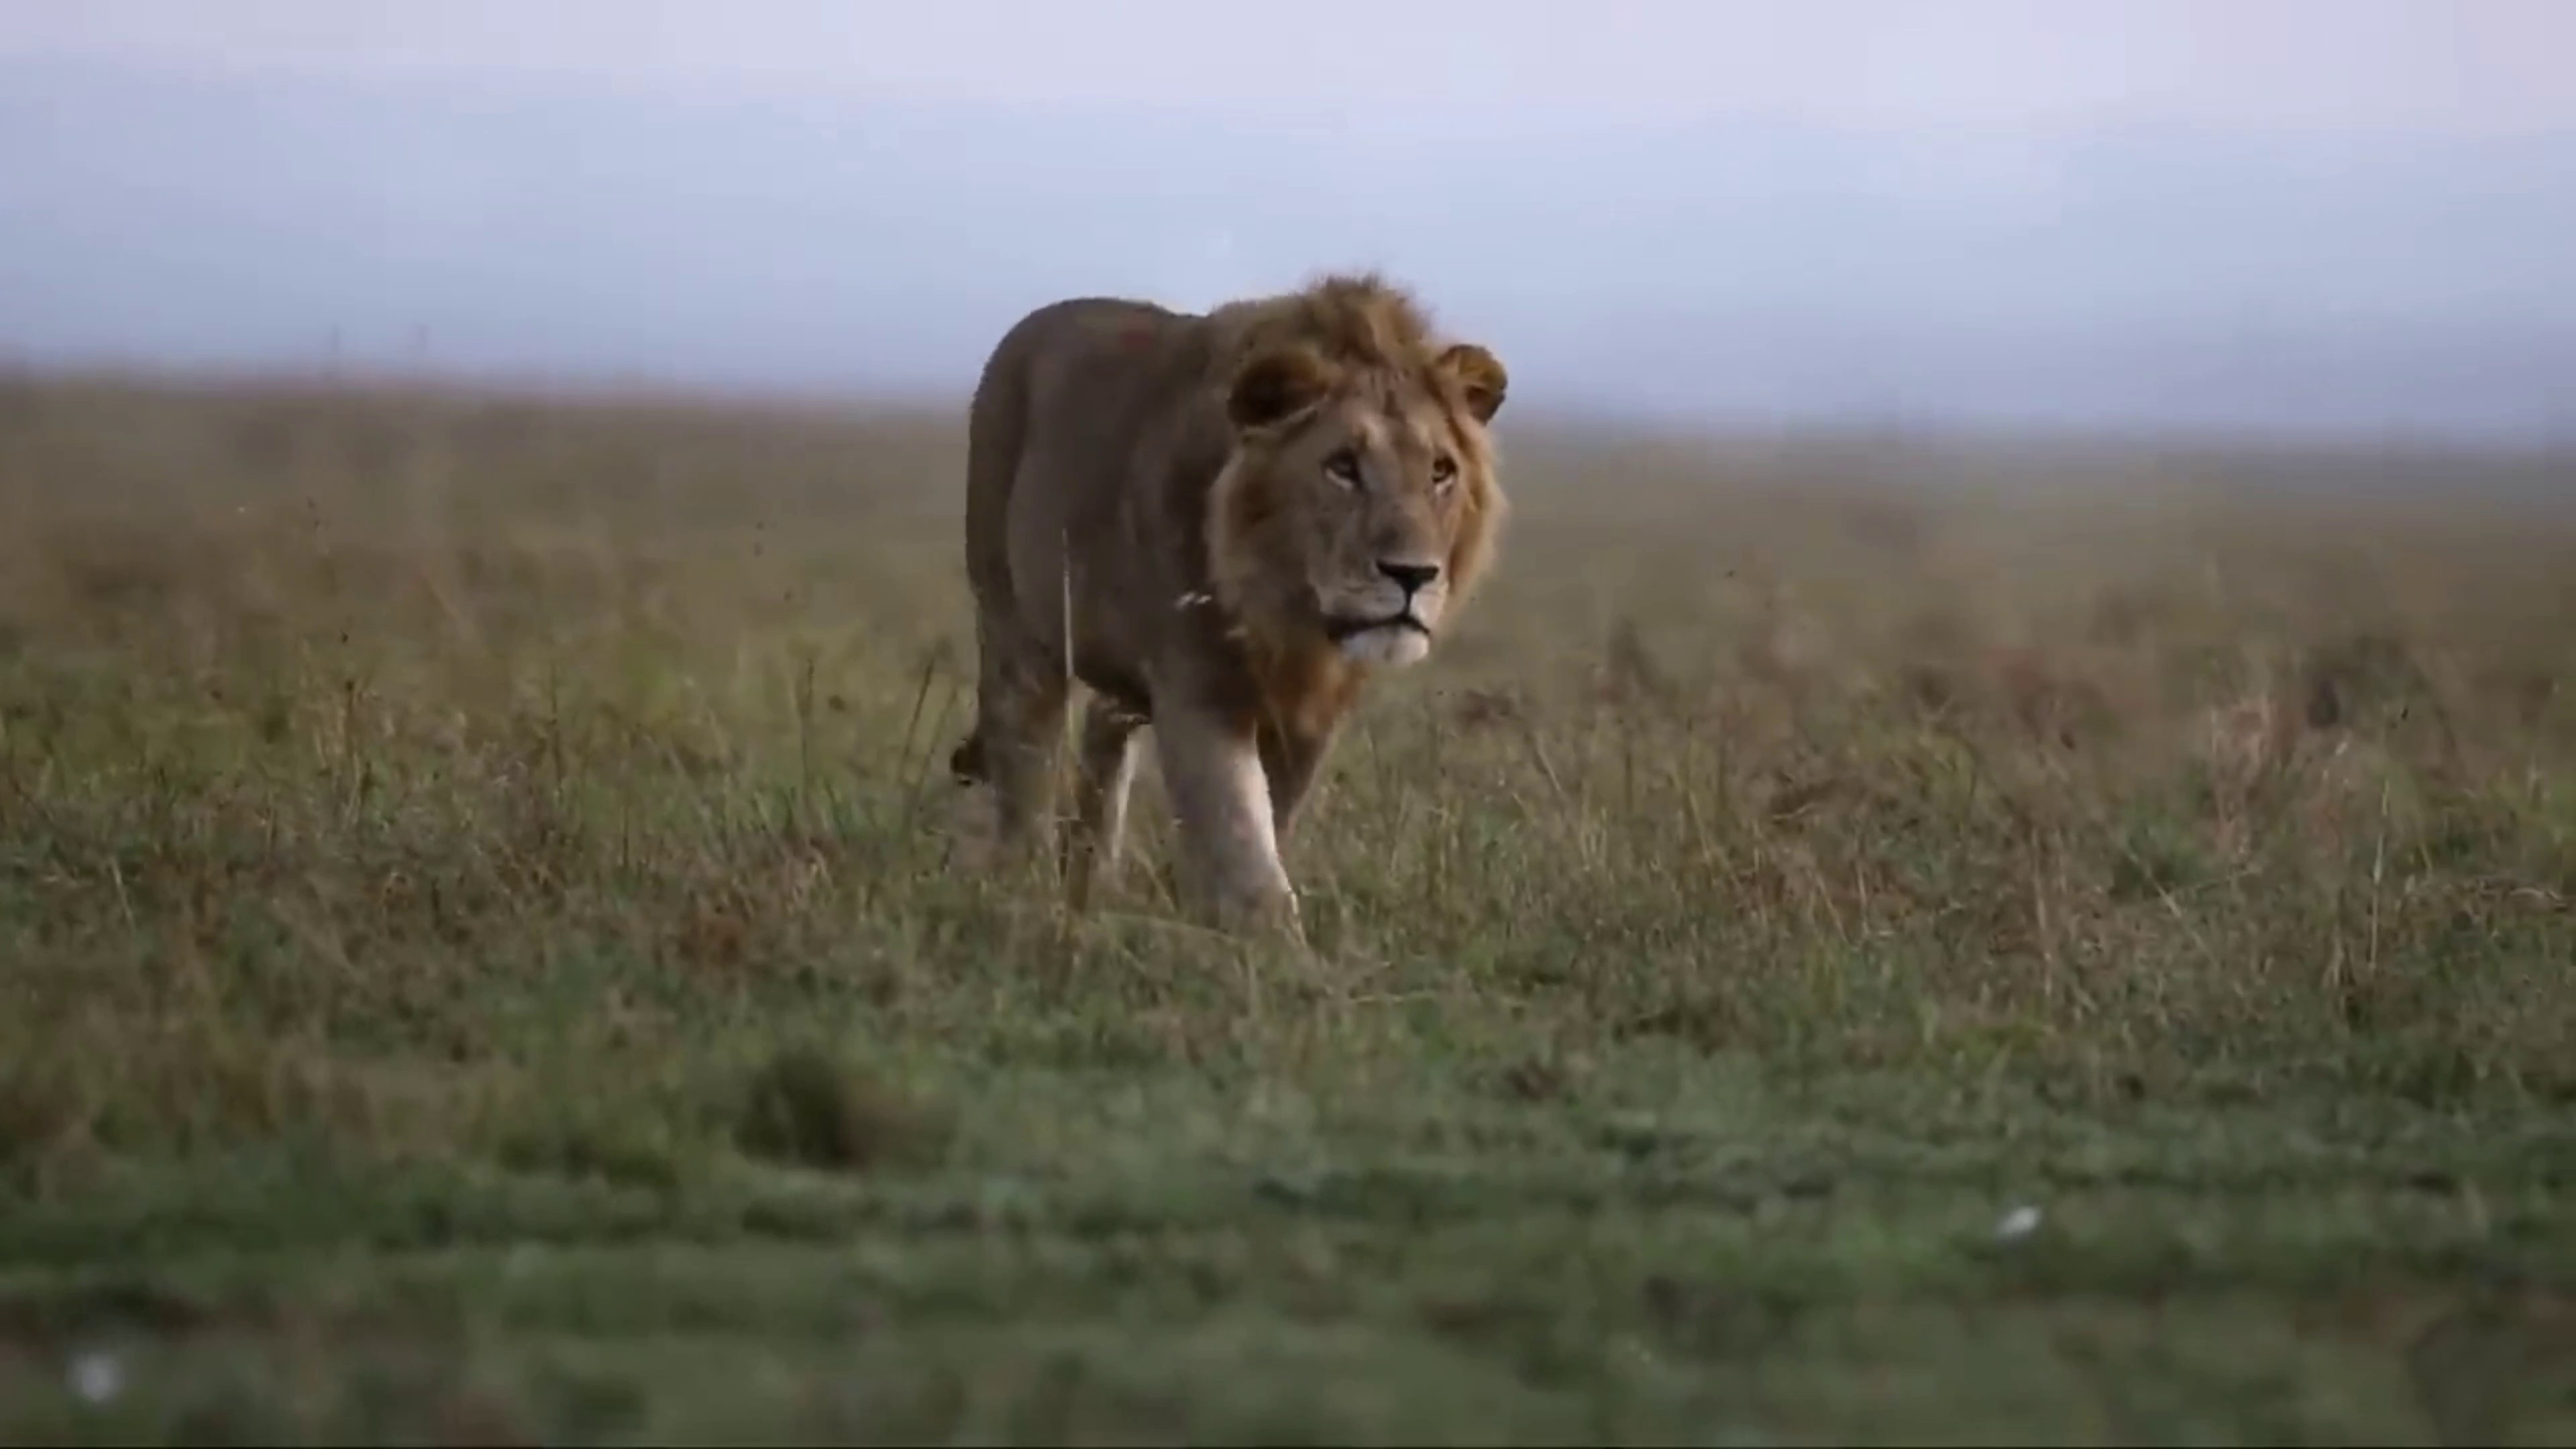Lion: (955, 264, 1513, 964)
